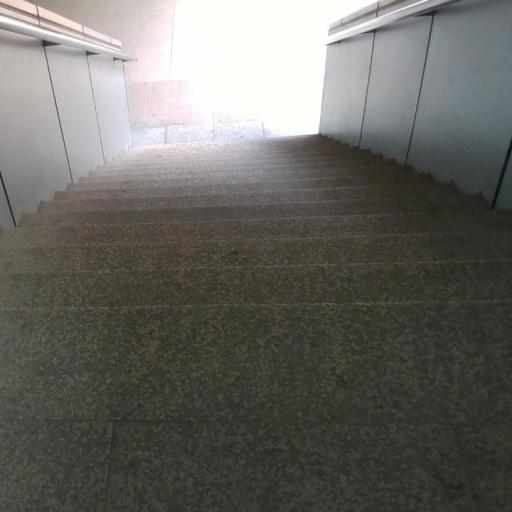stairs: (0, 136, 511, 511)
